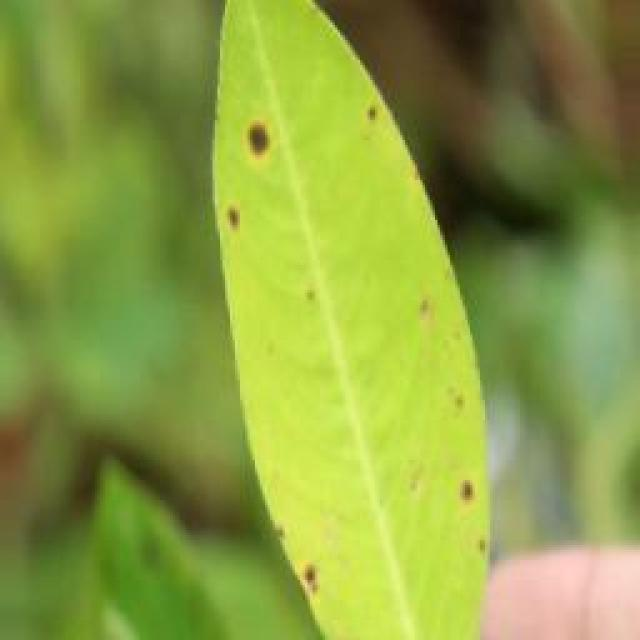Yellowish: (172, 66, 532, 612)
